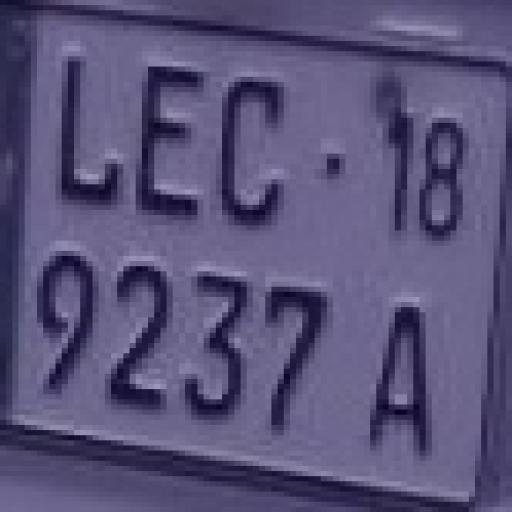2: (107, 250, 171, 416)
3: (188, 262, 245, 426)
7: (260, 282, 332, 429)
9: (28, 239, 88, 400)
A: (367, 294, 436, 458)
C: (214, 65, 294, 237)
E: (143, 50, 209, 231)
L: (48, 46, 128, 226)
